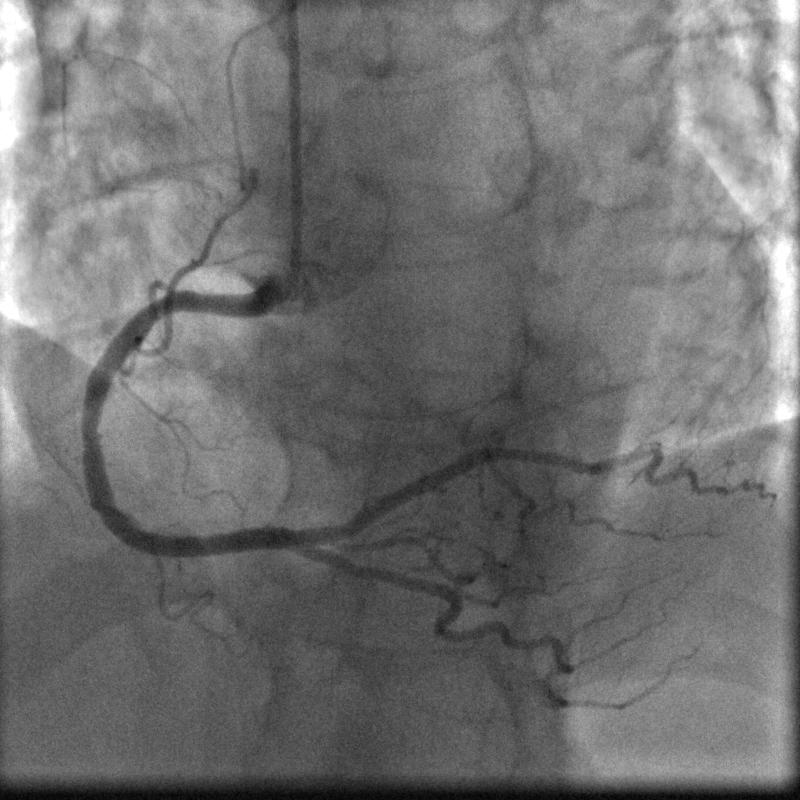Stenosis: (72, 403, 107, 460)
